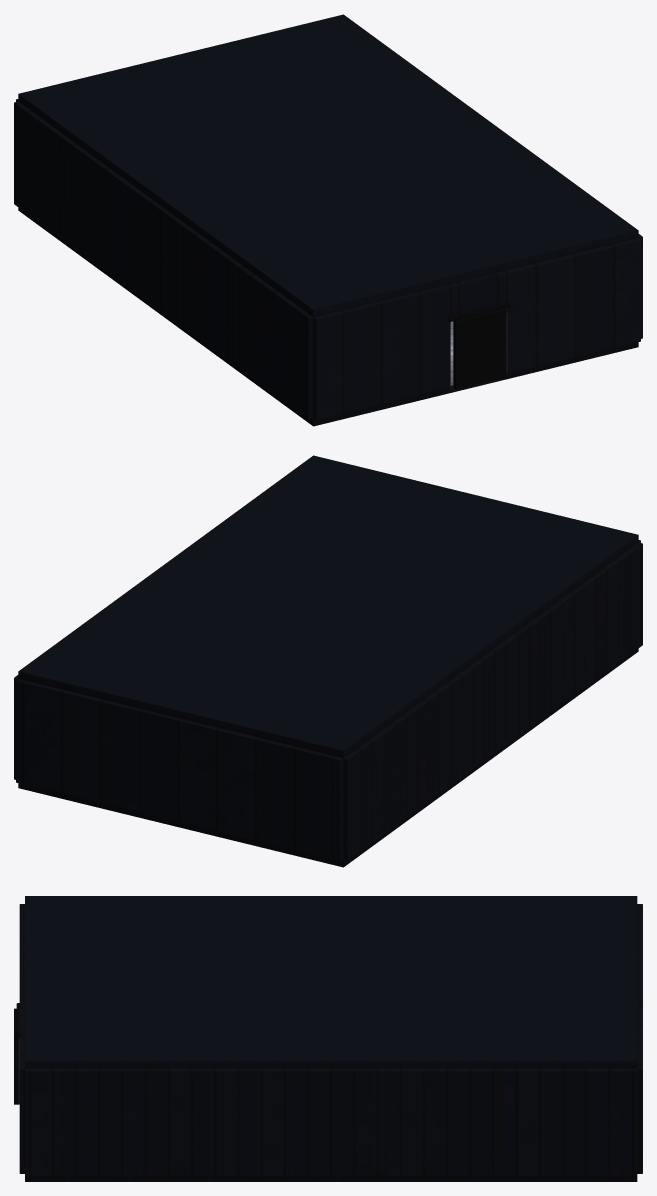
The model's file is vault.glb.
The picture shows the model from 3 angles, top to bottom: view 1: azimuth 30°, elevation 25°; view 2: azimuth 150°, elevation 25°; view 3: azimuth 270°, elevation 25°; orthographic projection. The views are drawn at different scales.
Parts seen in each view (by area): view 1: Shell; view 2: Shell; view 3: Shell.
Part boxes in pixels (bbox=[...]): Shell: bbox=[14, 14, 642, 426]; Shell: bbox=[14, 455, 642, 867]; Shell: bbox=[14, 896, 642, 1181].
Size of the model in its own units: 14.4 by 4.8 by 22.6.
6 materials, 2 textured.
